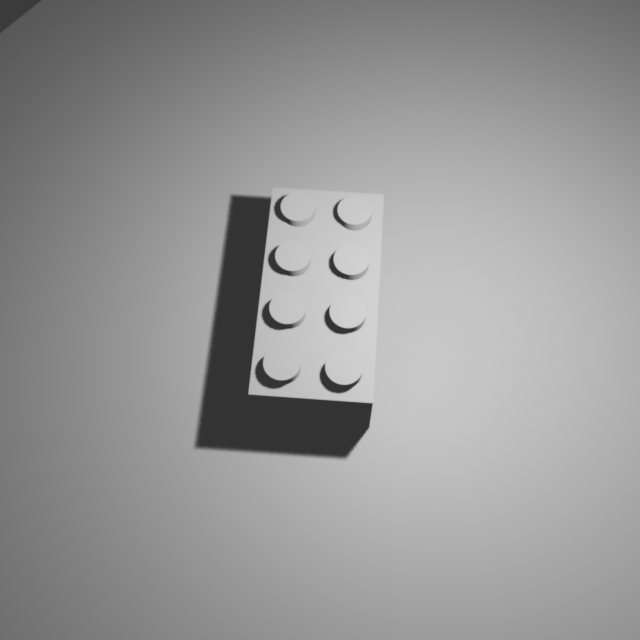lego_2x4: (248, 181, 385, 428)
